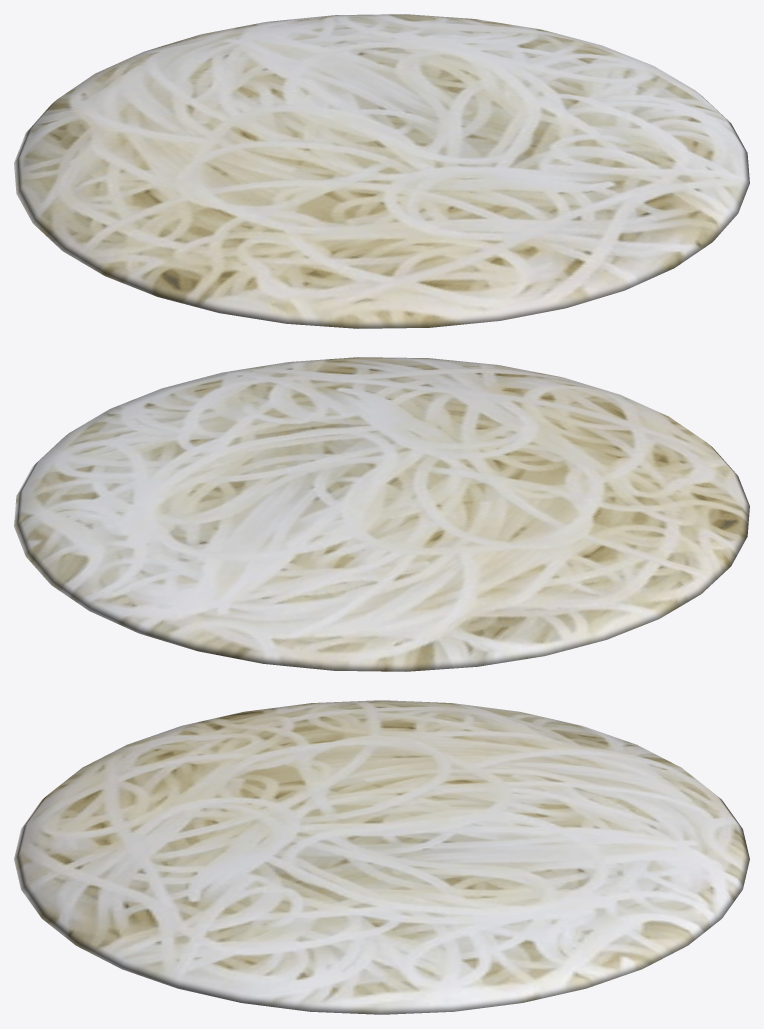
Rendered from thung_bun.fbx.
3 views of the same model, one above another, from view 1: azimuth 30°, elevation 25°; view 2: azimuth 150°, elevation 25°; view 3: azimuth 270°, elevation 25° (orthographic).
Parts seen in each view (by area): view 1: thung_bun; view 2: thung_bun; view 3: thung_bun.
Part boxes in pixels (x1=…): thung_bun: x1=14, y1=14, x2=749, y2=328; thung_bun: x1=14, y1=357, x2=749, y2=671; thung_bun: x1=14, y1=700, x2=749, y2=1014.
Bounding box in the file's own units: 93.34 × 4.74 × 93.34.
Materials: 1 (1 with a texture image).
